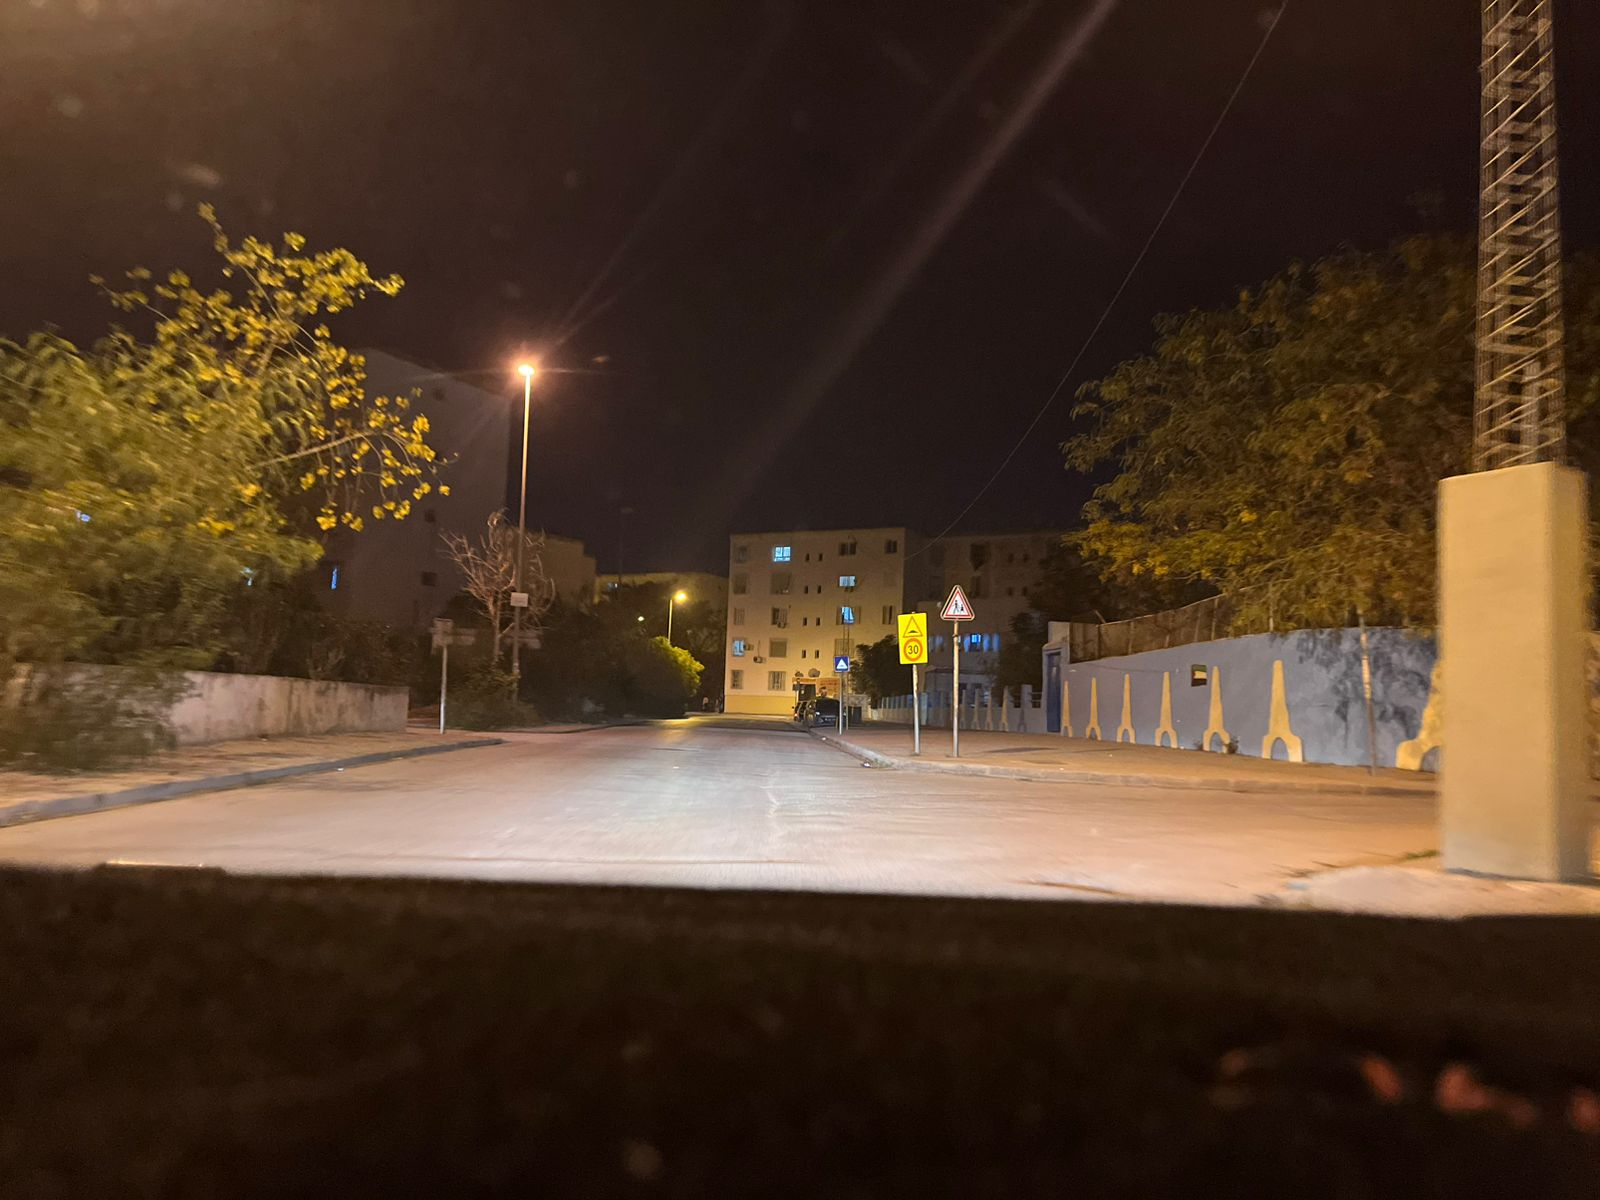SpeedLimit30: (897, 612, 928, 664)
